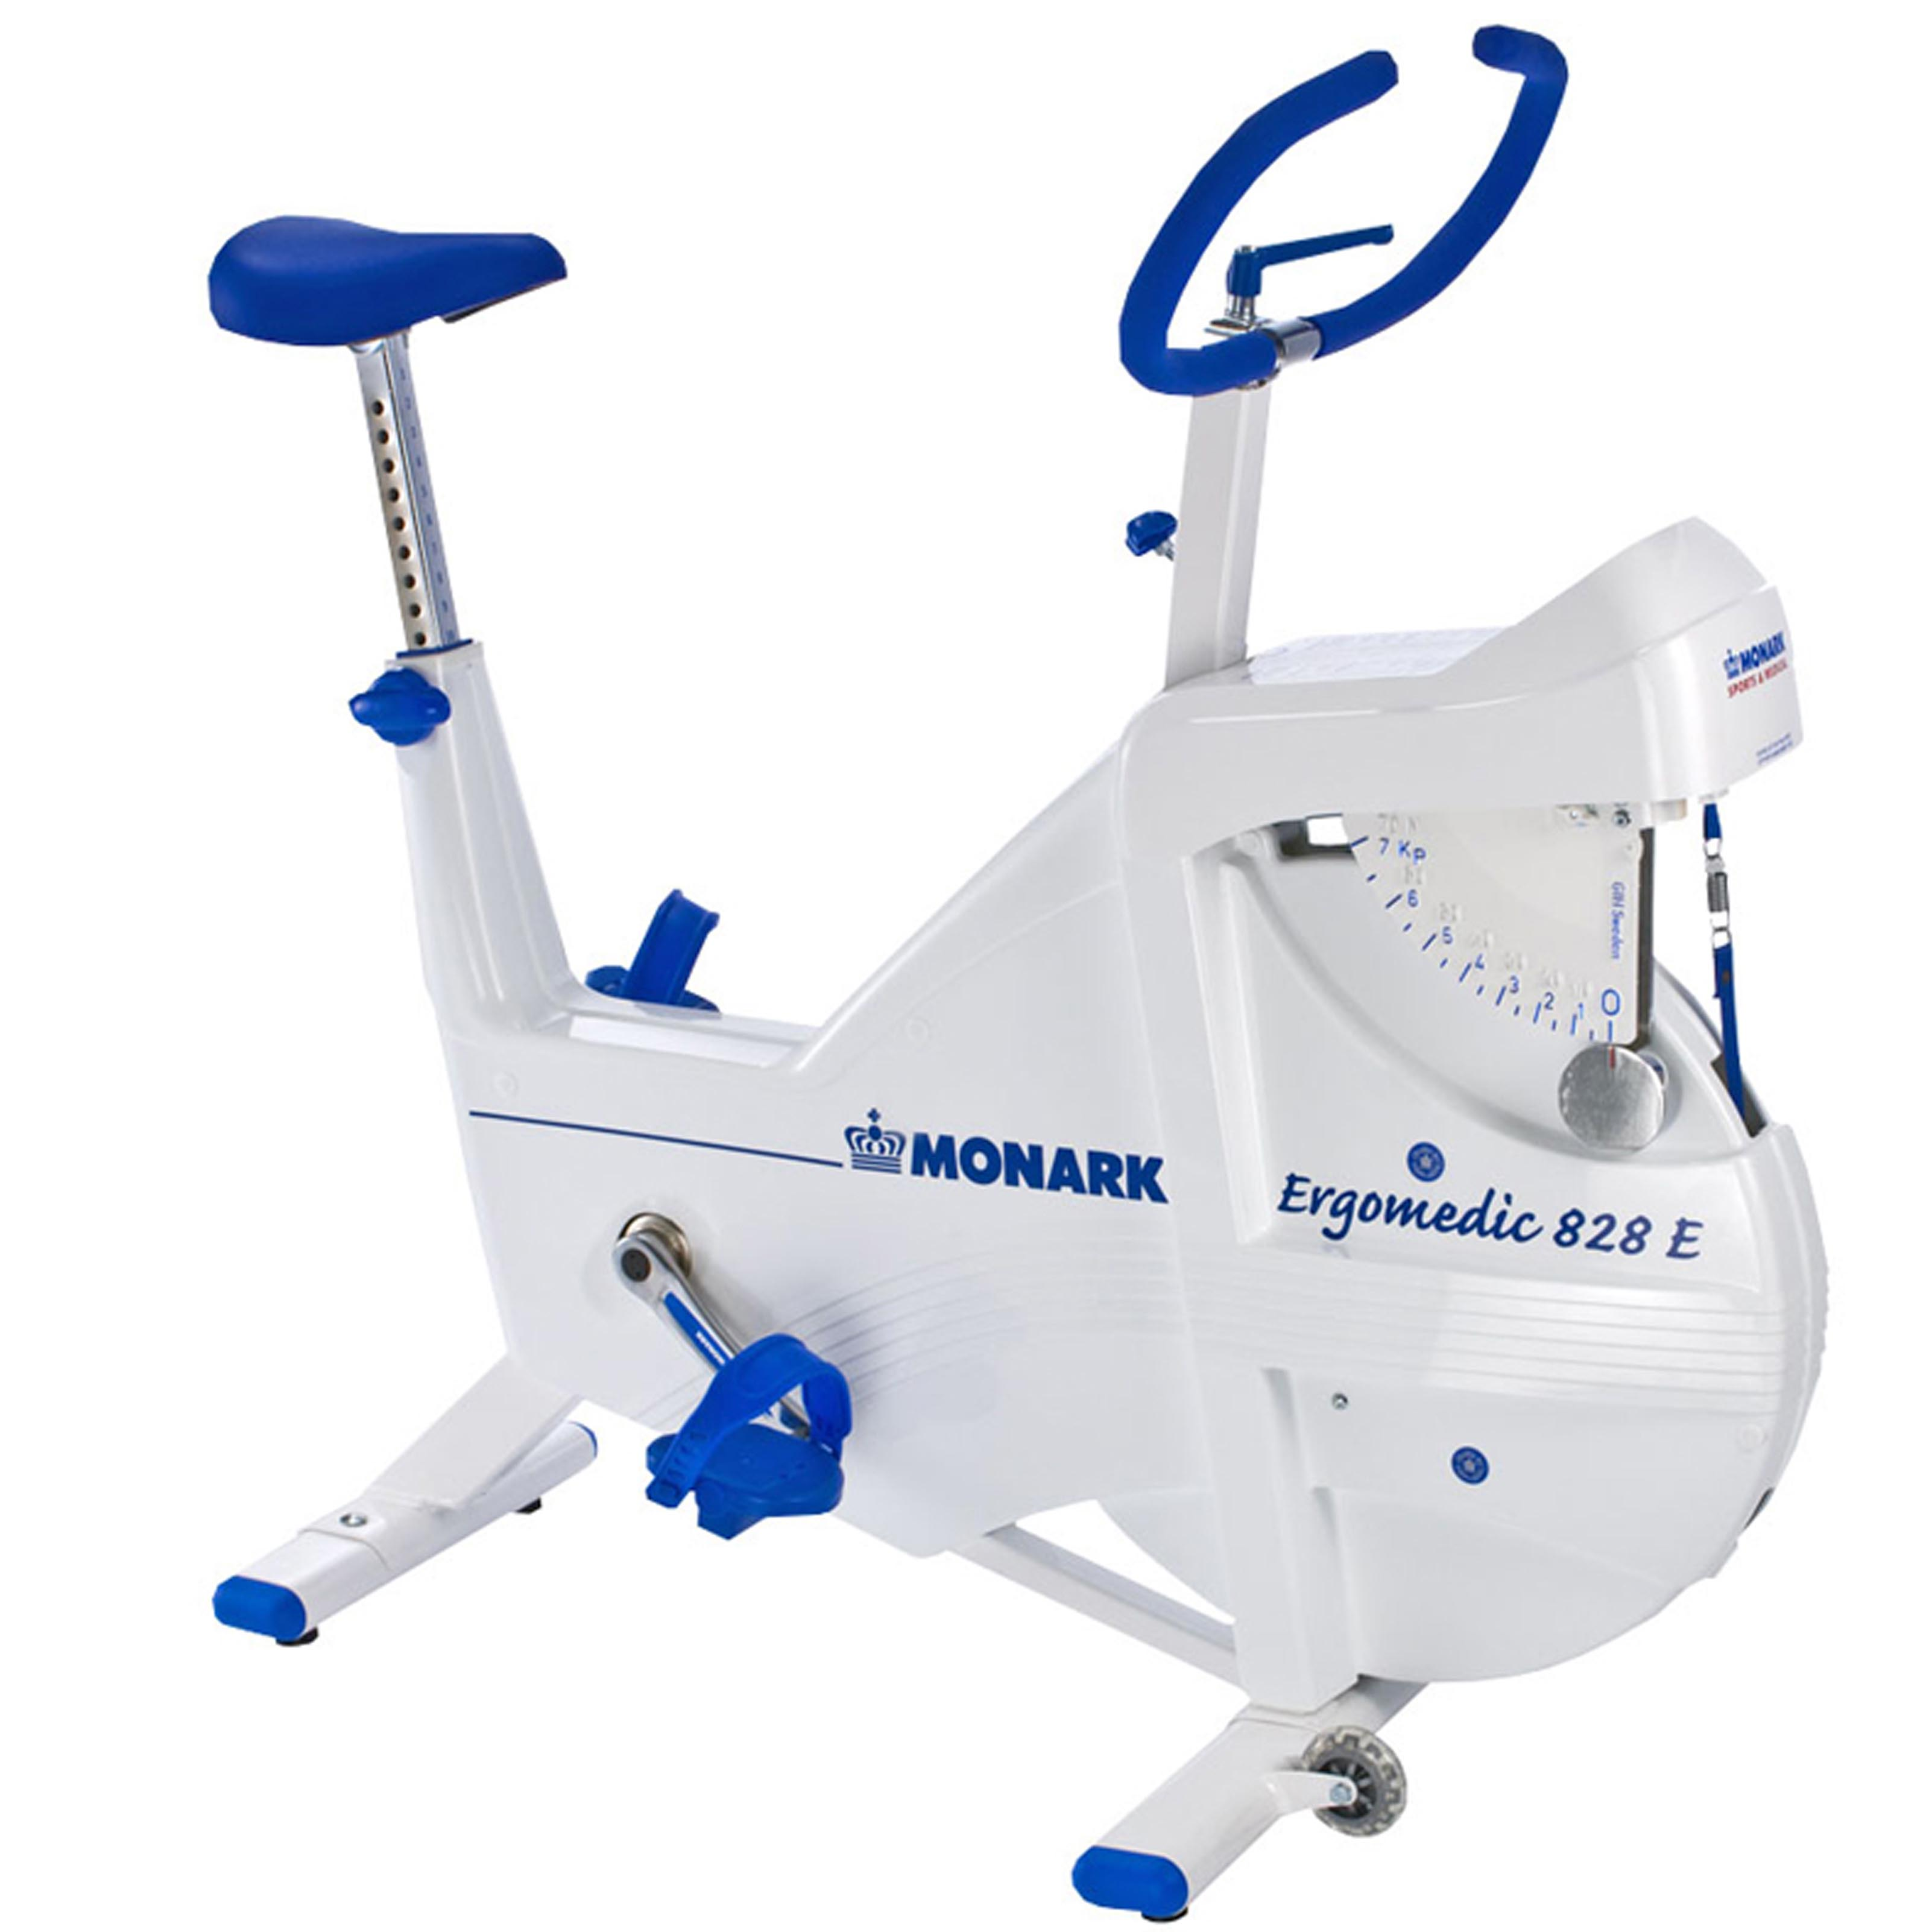gym_bike: (119, 46, 1868, 1923)
